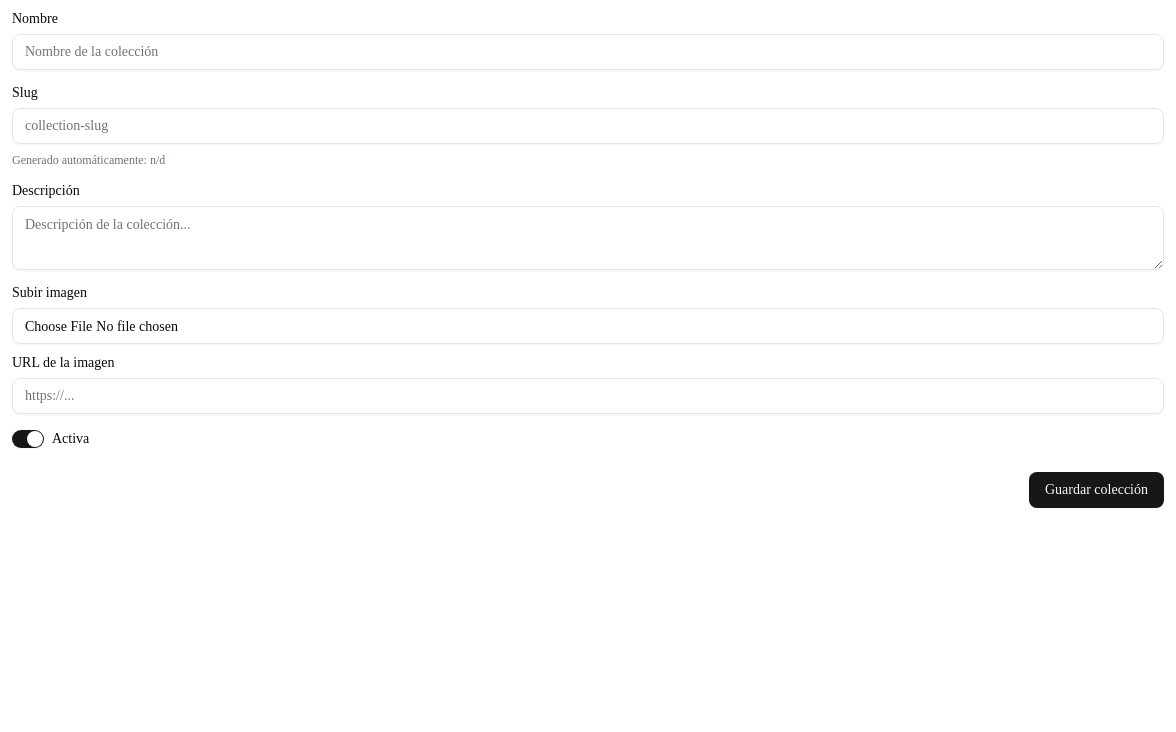
Scenario: CollectionForm: fields › derives the slug from the name as the shopper types
The width and height of the screenshot is (1176, 732).
Type "Cadenas" into the field labelled "Nombre" at (588, 52), box [12,34,1164,70]
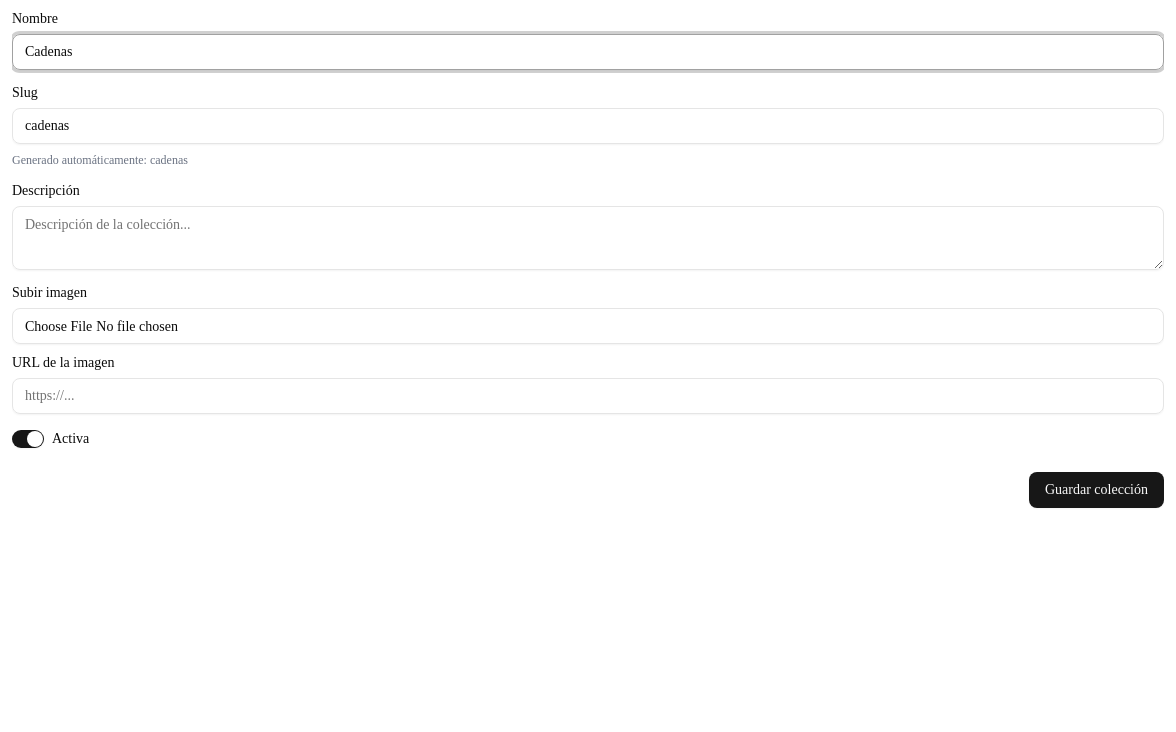
Expected: the field labelled "Slug" holds "cadenas", [12,108,1164,144]
